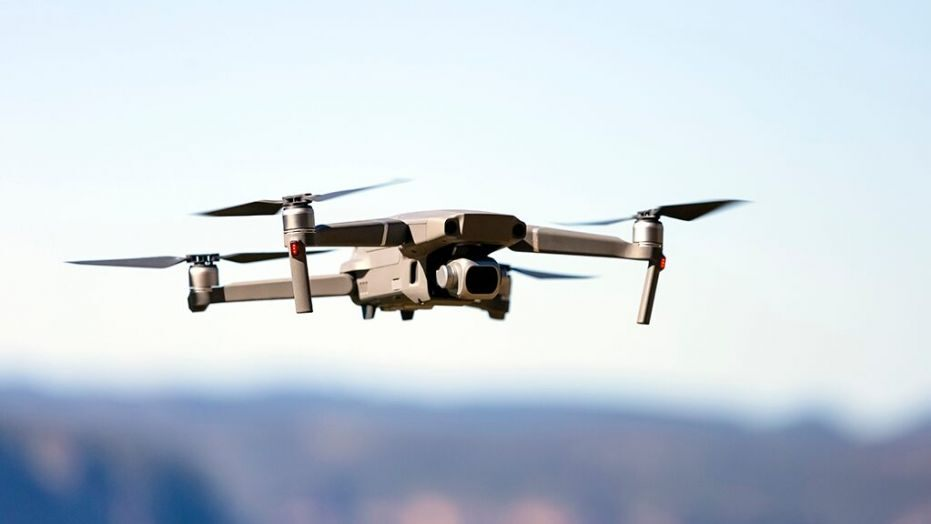drone: (54, 171, 771, 347)
